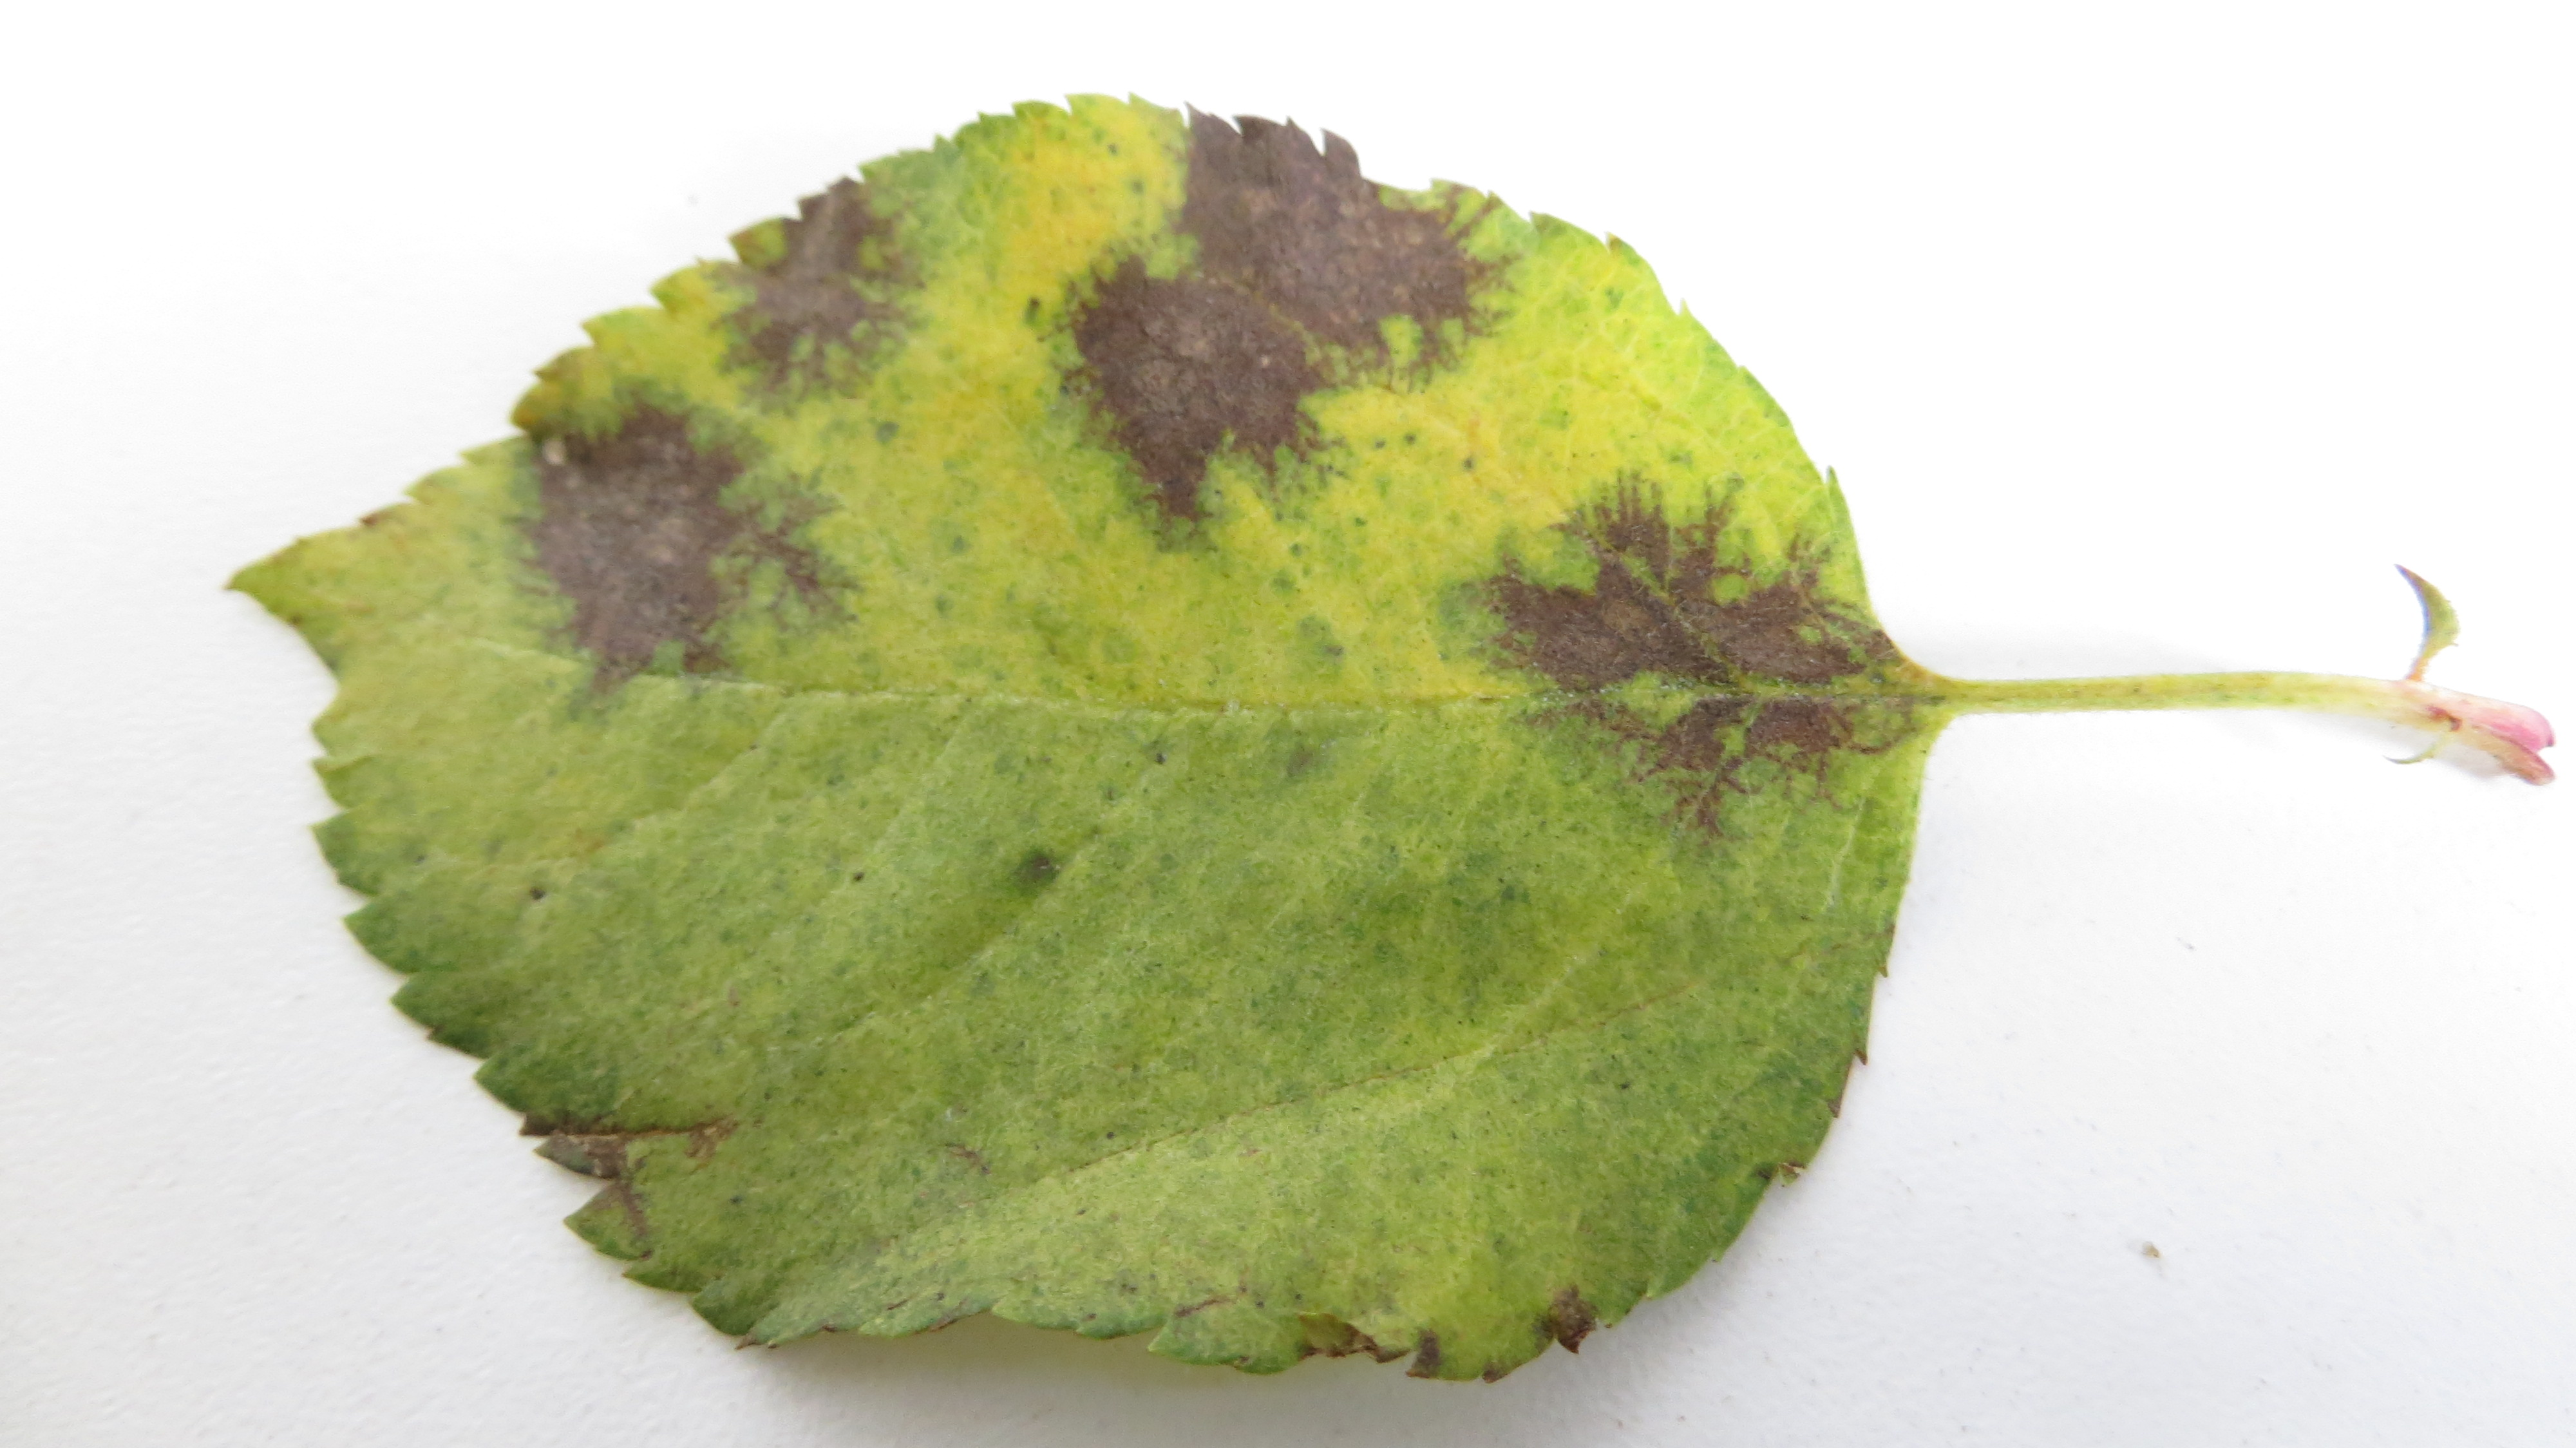sarna: (1468, 467, 1895, 821), (520, 389, 846, 722), (1171, 106, 1491, 386), (1060, 251, 1318, 533), (725, 163, 922, 397)
